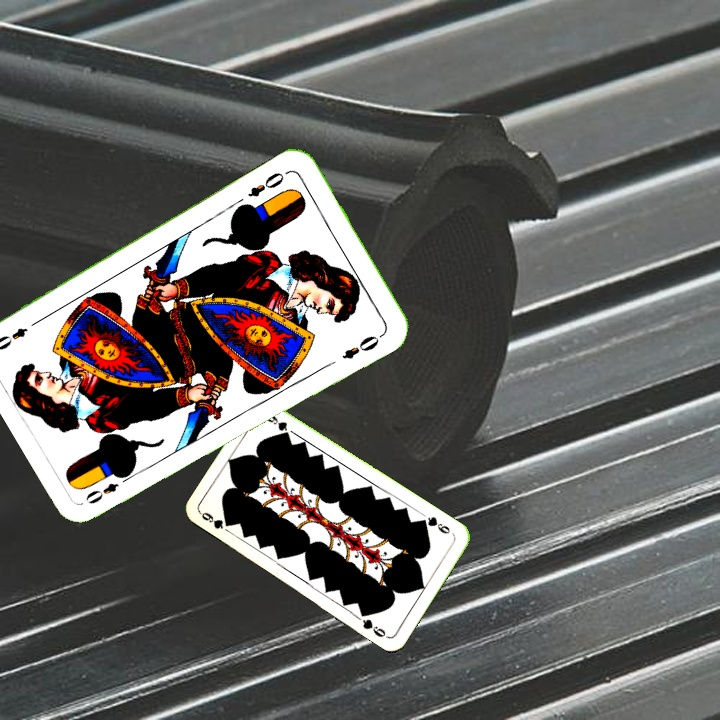EO: (244, 168, 287, 200), (81, 478, 122, 507)
G9: (417, 512, 453, 537), (197, 508, 226, 532)
